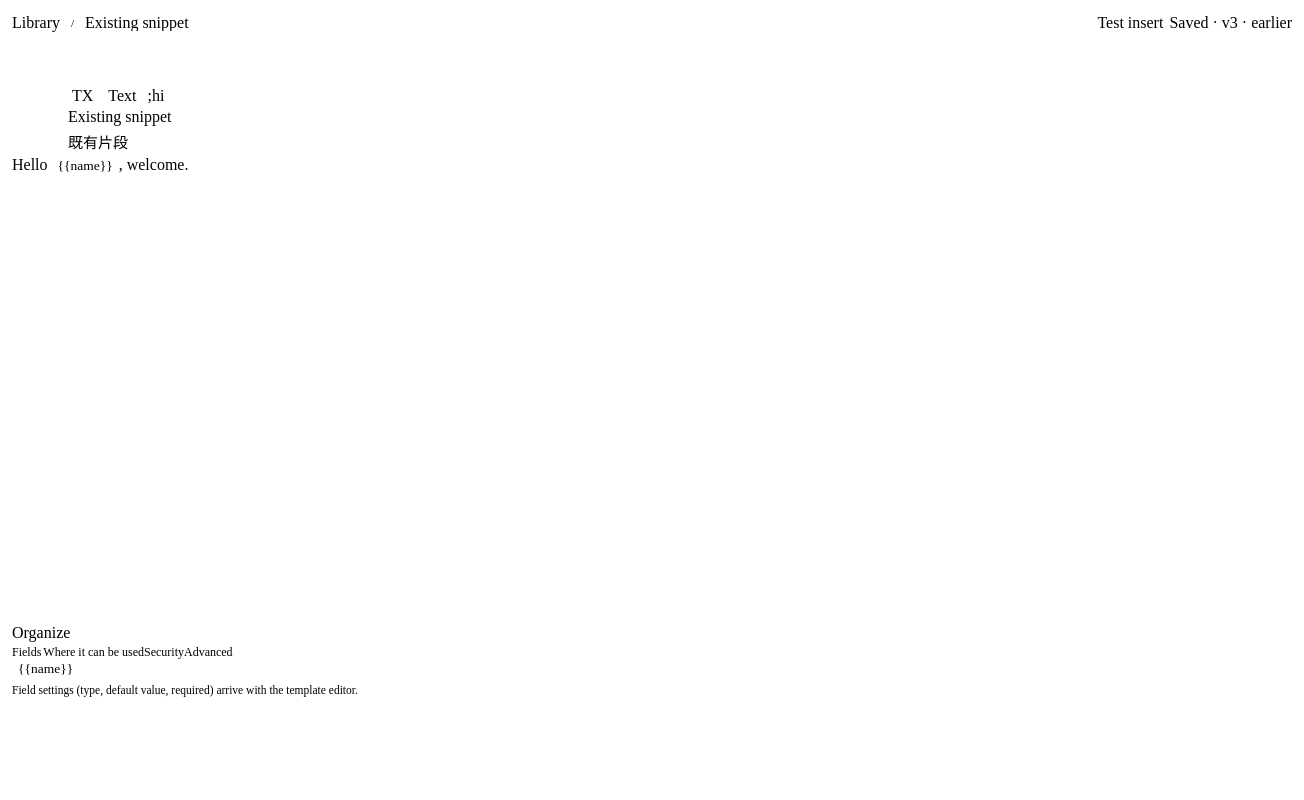
it: EditorPage › auto-saves edits to an existing snippet and reflects the bumped version
Replace the text in the field named "Snippet title" with "Existing snippet, renamed" at (652,117), box [68,108,1236,126]
Wait 900 ms
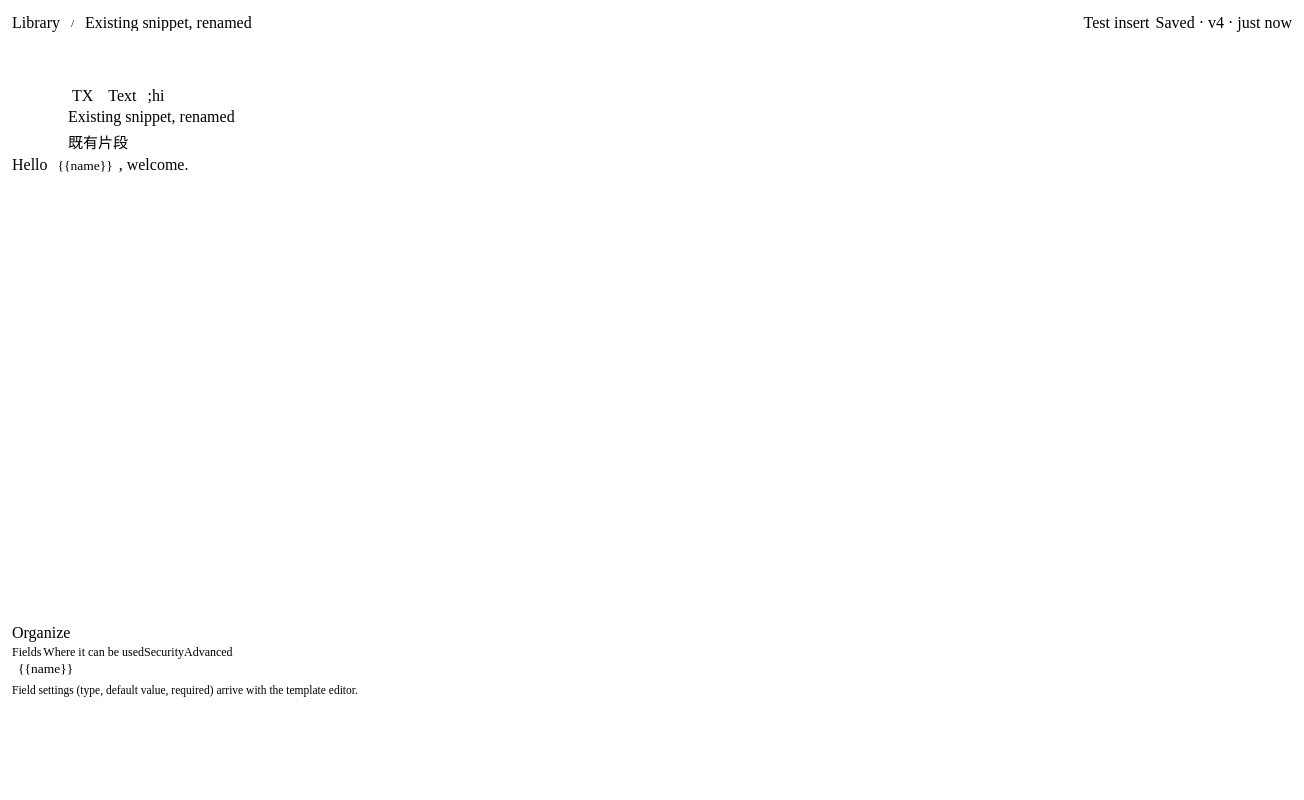
Check: the message shows "Saved · v4", box [1156,14,1292,31]
